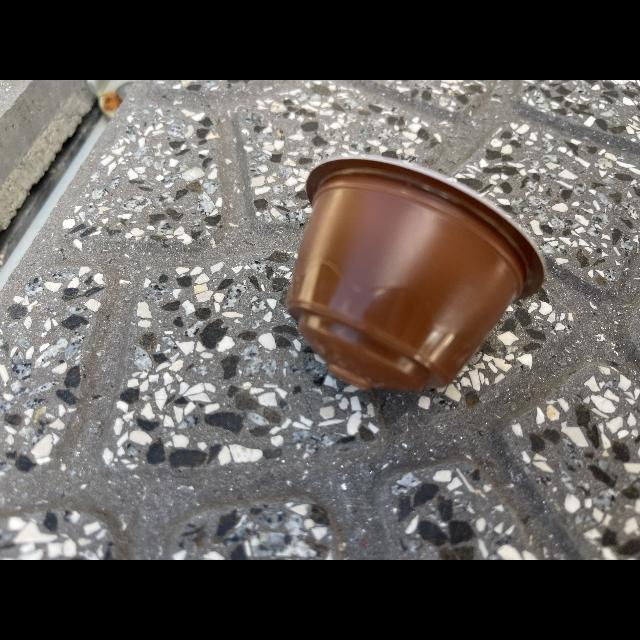intact_capsule: (283, 146, 569, 410)
